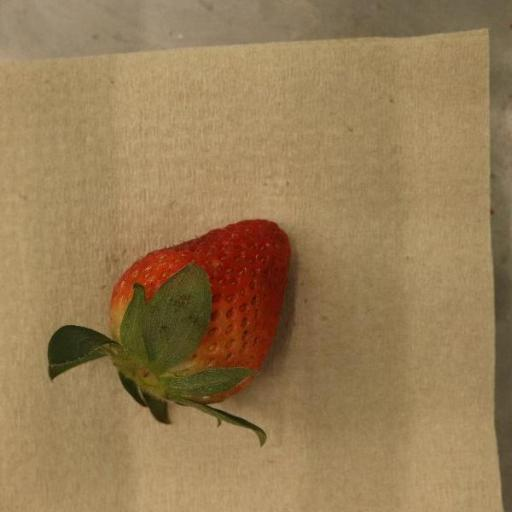Strawberry: (46, 220, 292, 447)
